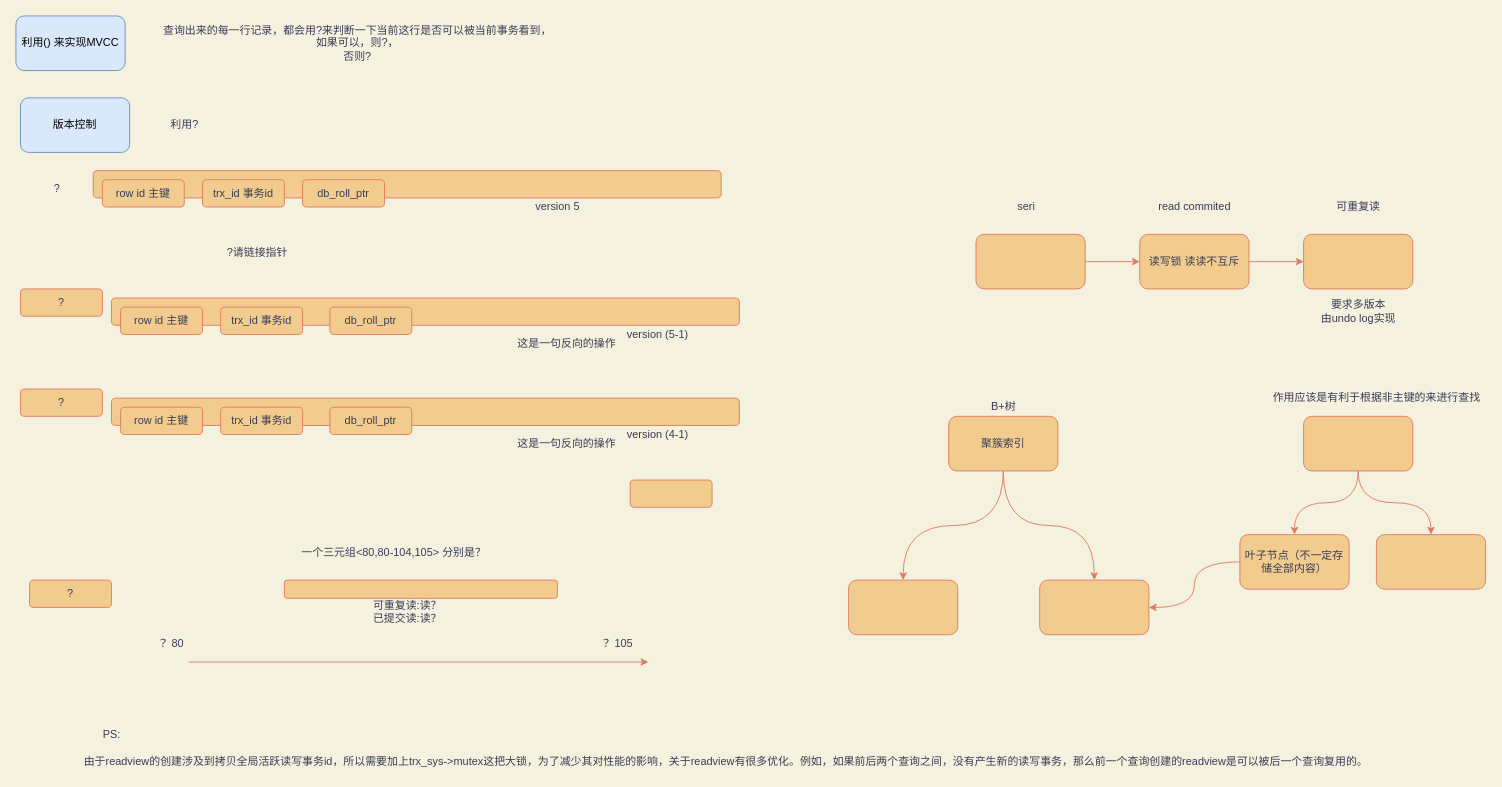
This 1502x787 diagram has some shape labels left out. The centre of each missing label's shape, as x and y in pixels:
"创建这玩意时，这些事务的SQL正在执行 还未提交。" goes at (420,588).
"叶子节点 存储内容" goes at (1094,607).
"简单加锁" goes at (1030,261).
"读快照 读写不互斥" goes at (1358,261).
"辅助索引" goes at (1358,443).
